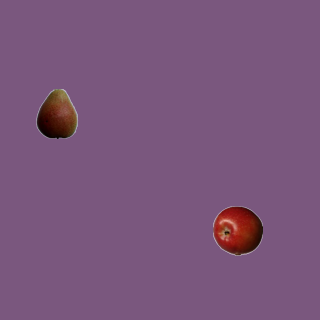Apple Braeburn: (212, 205, 262, 255)
Pear Forelle: (31, 88, 81, 138)
